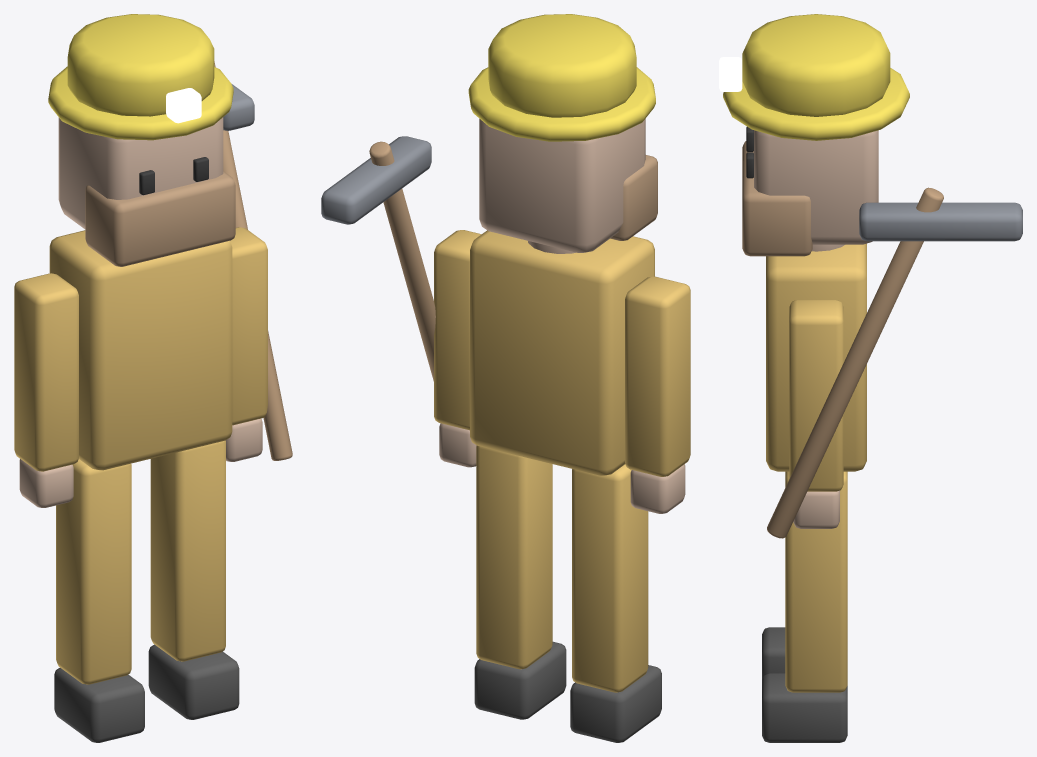
Rendered from npc_miner.glb.
The picture shows the model from 3 angles, left to right: view 1: azimuth 30°, elevation 25°; view 2: azimuth 150°, elevation 25°; view 3: azimuth 270°, elevation 25°; orthographic projection.
Parts seen in each view (by area): view 1: Brock_Torso, Brock_Leg_R, Brock_Leg_L, Brock_Hat_Dome, Brock_Arm_L, Brock_Beard, Brock_Head, Brock_Arm_R, Brock_Hat_Brim, Brock_Shoe_R, Brock_Shoe_L, Brock_Pick_Handle (+4 smaller); view 2: Brock_Torso, Brock_Head, Brock_Leg_R, Brock_Leg_L, Brock_Hat_Dome, Brock_Arm_L, Brock_Arm_R, Brock_Hat_Brim, Brock_Pick_Head, Brock_Shoe_R, Brock_Shoe_L, Brock_Pick_Handle (+3 smaller); view 3: Brock_Hat_Dome, Brock_Torso, Brock_Leg_R, Brock_Head, Brock_Arm_R, Brock_Pick_Handle, Brock_Pick_Head, Brock_Hat_Brim, Brock_Shoe_R, Brock_Beard, Brock_Hand_R, Brock_Shoe_L (+1 smaller).
Part boxes in pixels (box(x1,y1,x2,y2)): Brock_Torso: box(49, 230, 232, 470); Brock_Leg_R: box(150, 440, 225, 661); Brock_Leg_L: box(56, 459, 131, 684); Brock_Hat_Dome: box(67, 14, 214, 116); Brock_Arm_L: box(14, 273, 78, 471); Brock_Beard: box(85, 171, 235, 266); Brock_Head: box(58, 117, 223, 228); Brock_Arm_R: box(230, 227, 267, 425); Brock_Hat_Brim: box(48, 66, 233, 140); Brock_Shoe_R: box(148, 644, 239, 719); Brock_Shoe_L: box(54, 668, 144, 742); Brock_Pick_Handle: box(214, 61, 292, 460); Brock_Torso: box(470, 230, 654, 475); Brock_Head: box(479, 119, 645, 252); Brock_Leg_R: box(476, 445, 552, 669); Brock_Leg_L: box(572, 464, 648, 692); Brock_Hat_Dome: box(488, 14, 636, 117); Brock_Arm_L: box(625, 276, 690, 476); Brock_Arm_R: box(434, 230, 481, 430); Brock_Hat_Brim: box(468, 67, 655, 141); Brock_Pick_Head: box(321, 136, 431, 224); Brock_Shoe_R: box(474, 641, 566, 719); Brock_Shoe_L: box(570, 665, 661, 742); Brock_Pick_Handle: box(369, 141, 435, 381); Brock_Hat_Dome: box(742, 14, 890, 116); Brock_Torso: box(766, 243, 866, 471); Brock_Leg_R: box(785, 471, 847, 692); Brock_Head: box(754, 130, 878, 244); Brock_Arm_R: box(789, 300, 843, 491); Brock_Pick_Handle: box(767, 187, 943, 538); Brock_Pick_Head: box(859, 202, 1022, 241); Brock_Hat_Brim: box(723, 68, 909, 140); Brock_Shoe_R: box(762, 673, 847, 742); Brock_Beard: box(742, 141, 812, 256); Brock_Hand_R: box(793, 490, 839, 528); Brock_Shoe_L: box(762, 627, 785, 679).
Bounding box in the file's own units: 0.755 × 1.9 × 0.78.
